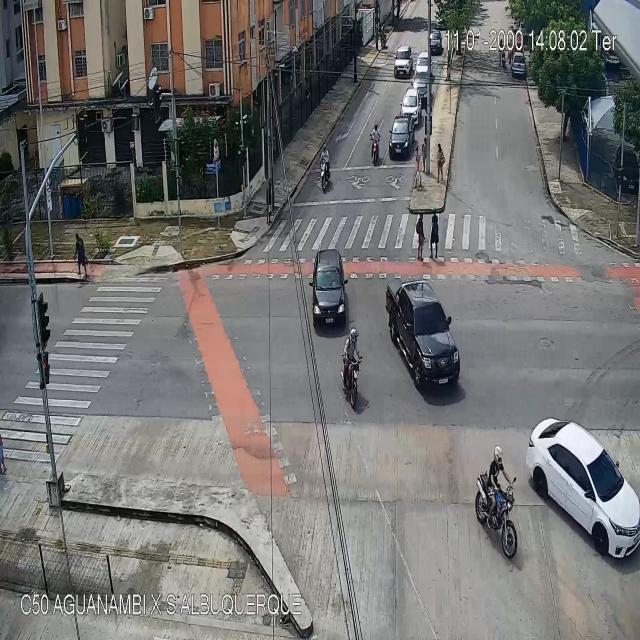Car: (526, 421, 640, 557), (386, 279, 460, 397), (311, 246, 348, 333), (388, 116, 412, 158), (401, 88, 422, 124), (412, 75, 430, 111), (393, 46, 413, 76), (417, 53, 432, 83), (430, 33, 442, 57), (511, 54, 524, 76)
Motorcycle: (476, 444, 521, 558), (340, 328, 361, 409), (321, 144, 332, 192), (371, 122, 380, 165)
